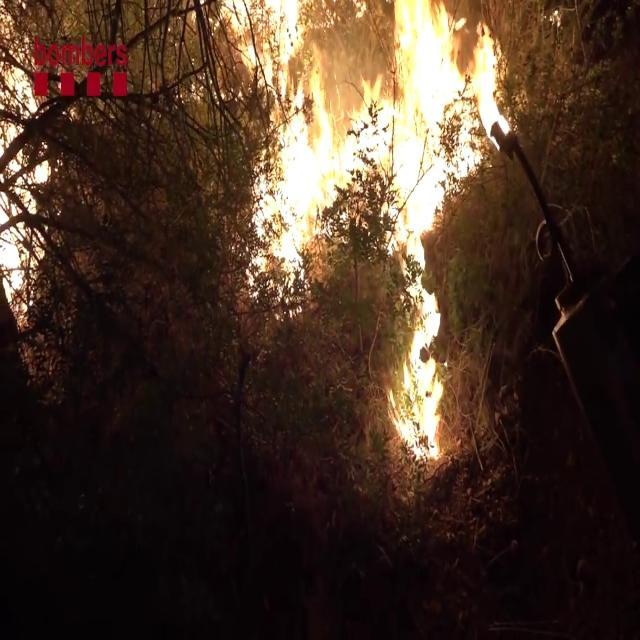Fire: (237, 0, 515, 274), (0, 0, 63, 342), (382, 267, 456, 468)
